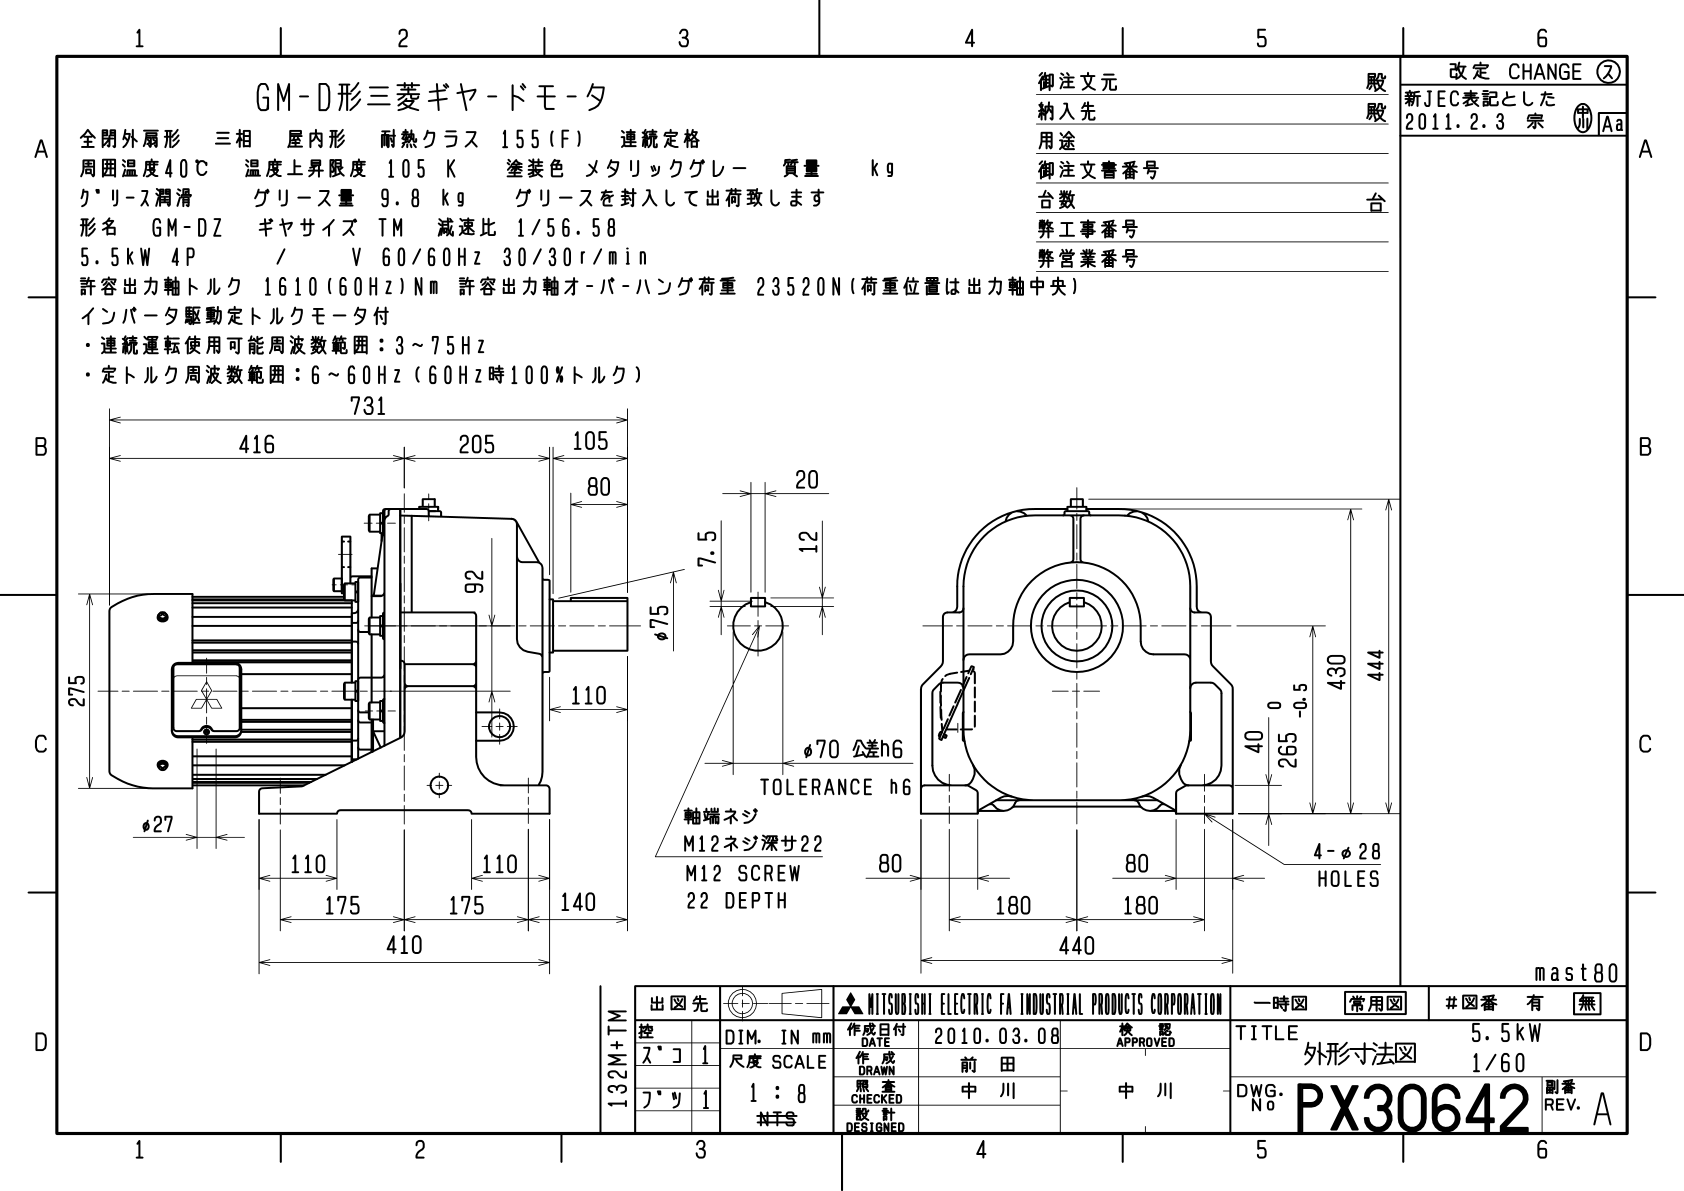GM_D_インバータ屋内_三相_脚: (67, 388, 1399, 980)
